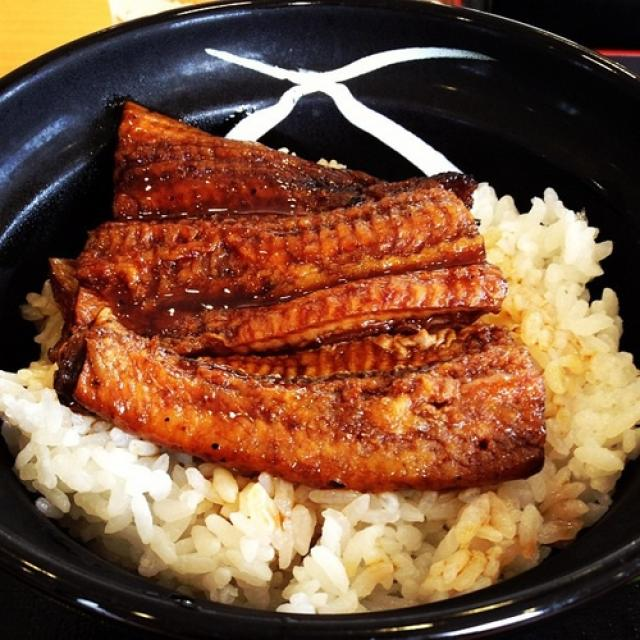熟制海鲜: (4, 5, 635, 634)
